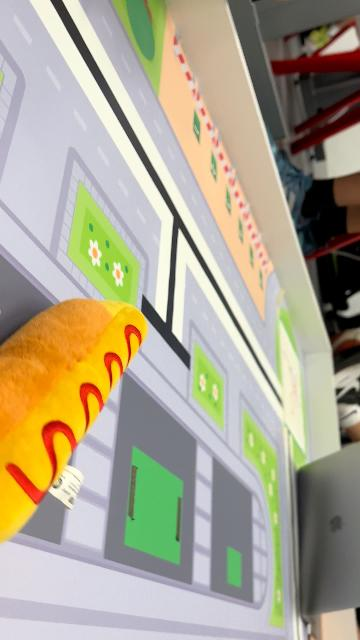hotdog: (2, 297, 150, 545)
